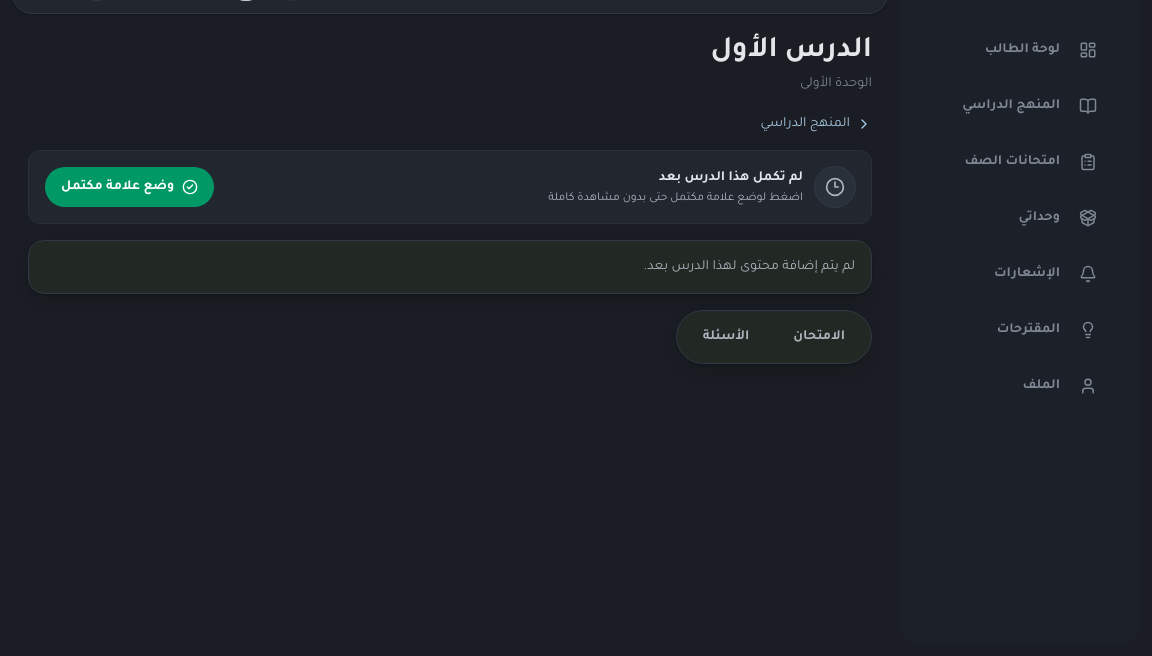
Test: StudentLessonPage — comments tab › shows an empty state when there are no comments
Click the tab with test id "lesson-tab-comments".
click(726, 337)  # box [683,317,769,357]
(page scrolled)
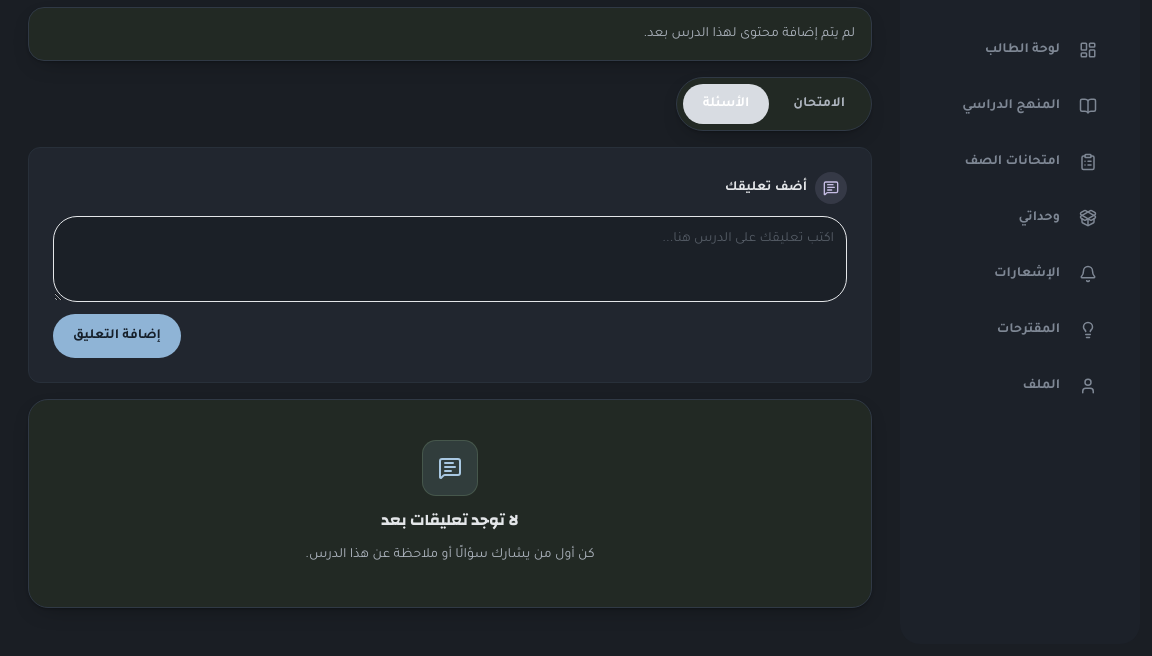
Check: the text "لا توجد تعليقات بعد" is shown, box [381,508,519,532]
